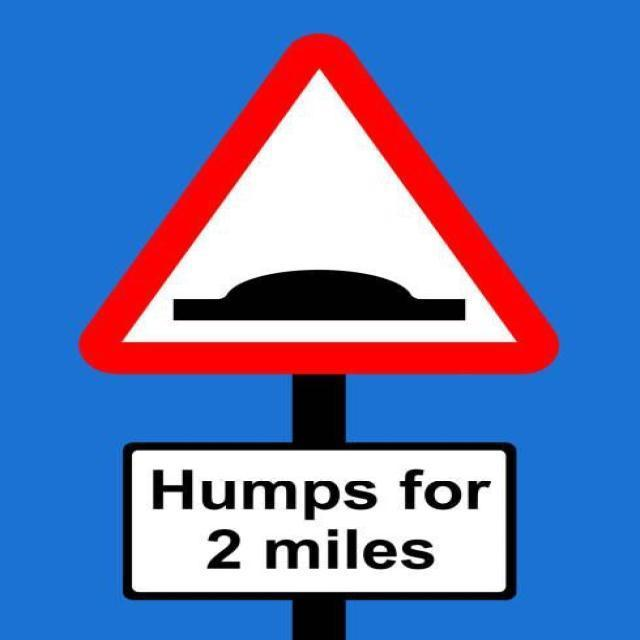hump or rough road: (74, 26, 564, 383)
